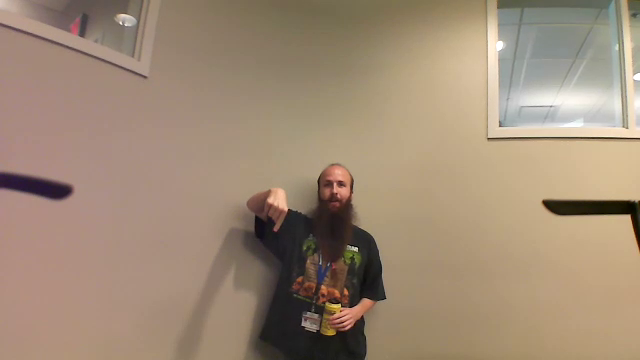down: (260, 185, 291, 238)
